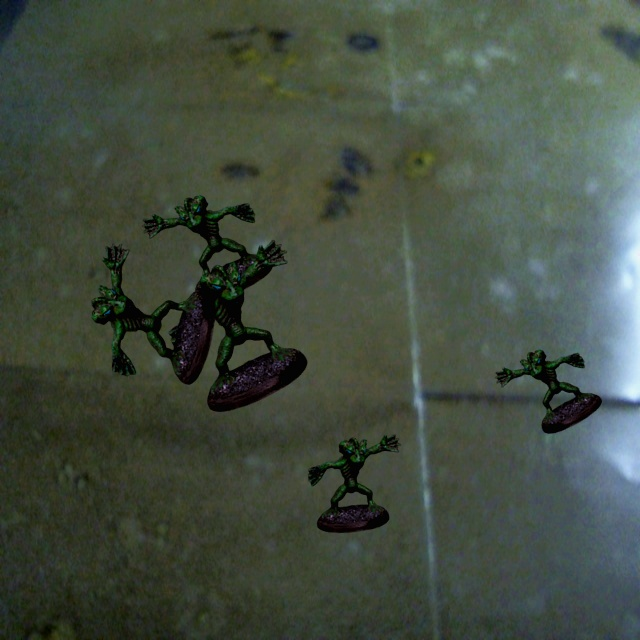pieza_juego: (168, 240, 307, 411), (91, 243, 215, 384), (142, 195, 272, 300), (308, 434, 400, 532), (495, 349, 601, 433)
